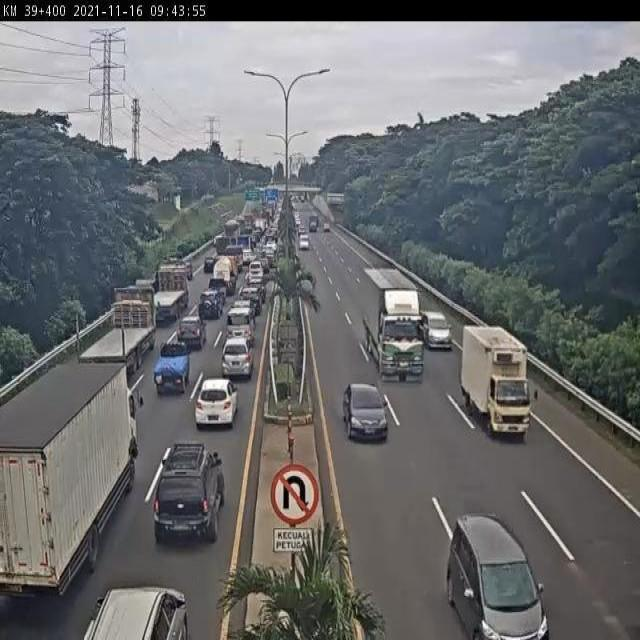Car: (447, 514, 547, 636), (152, 442, 226, 542), (342, 382, 389, 442), (194, 376, 238, 428), (152, 340, 192, 395), (221, 334, 255, 380), (420, 311, 452, 350), (176, 314, 208, 351), (199, 287, 226, 320), (226, 304, 255, 332), (226, 322, 254, 351), (239, 286, 262, 316), (248, 260, 264, 283), (263, 241, 277, 263), (274, 199, 284, 227), (242, 248, 255, 268), (203, 255, 216, 273), (265, 226, 277, 245), (259, 254, 271, 273), (308, 215, 319, 232), (298, 235, 310, 250), (294, 213, 300, 230), (300, 223, 308, 235), (323, 222, 330, 233)
Truck: (0, 351, 138, 605), (459, 322, 530, 436), (360, 273, 428, 376), (114, 285, 155, 332), (157, 261, 192, 311), (212, 256, 235, 296), (259, 268, 274, 292), (238, 230, 254, 250), (224, 218, 239, 238), (260, 205, 273, 226), (242, 213, 254, 231), (251, 228, 263, 246), (275, 241, 286, 260), (284, 193, 294, 208), (302, 195, 307, 202)
